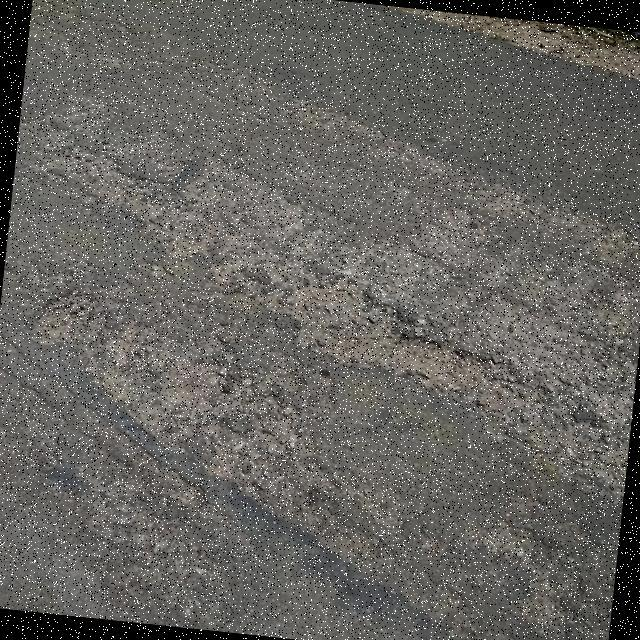Pothole: (36, 285, 303, 479), (258, 275, 535, 424)
